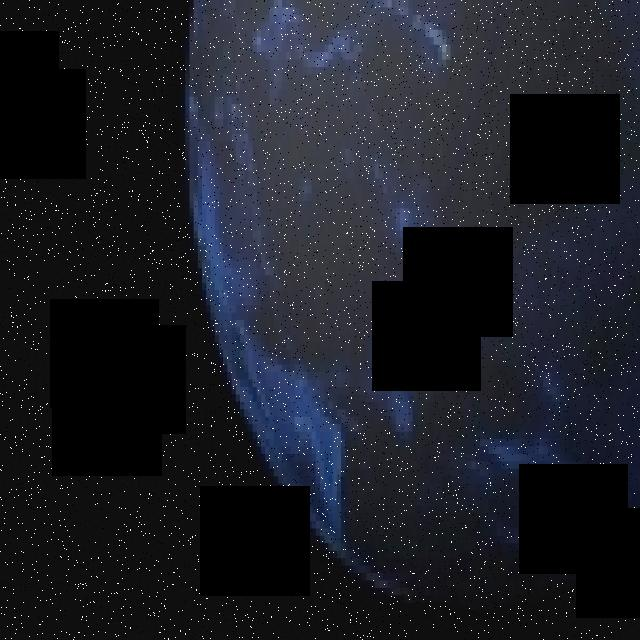Earth: (186, 0, 640, 603)
